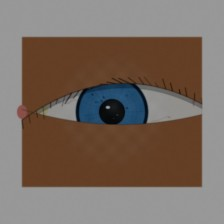pinguecula_lesion: (19, 94, 58, 126)
